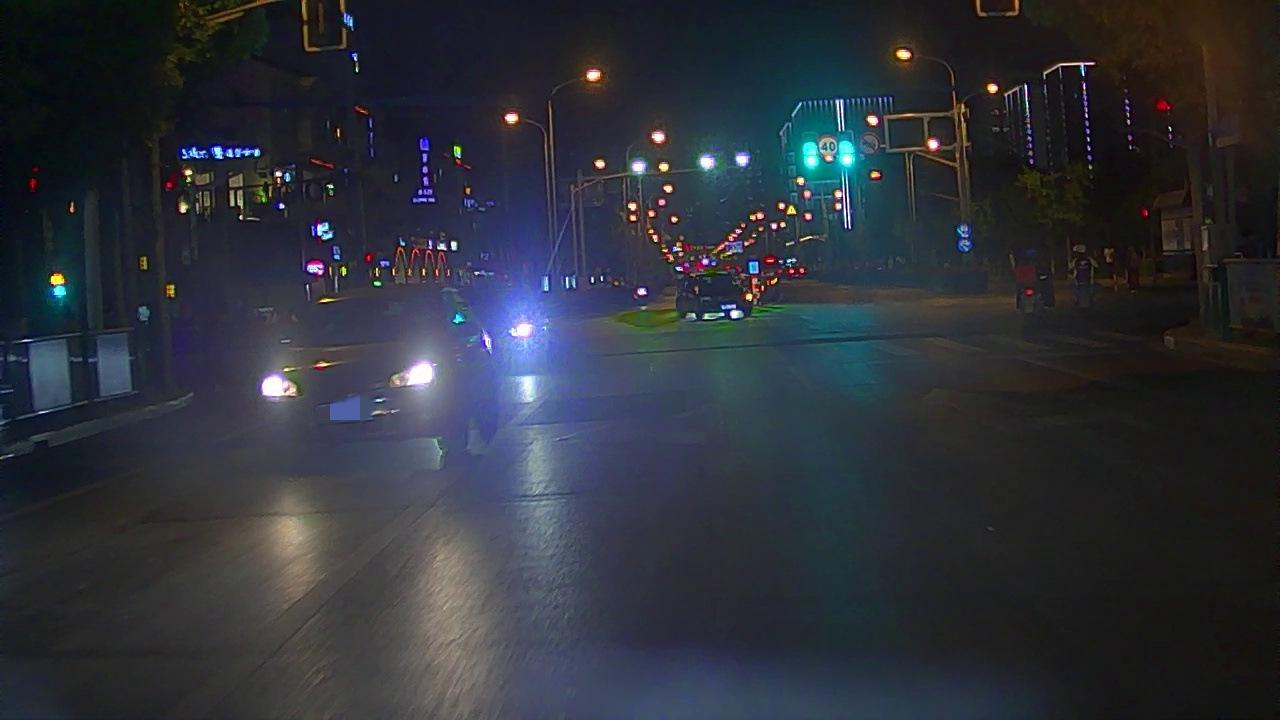traffic_light: (802, 133, 821, 173), (838, 131, 857, 170)
